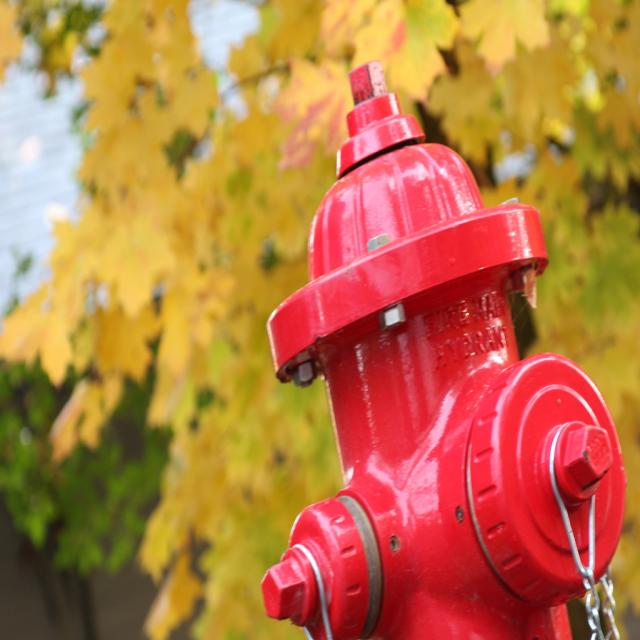fire_hydrant: (263, 64, 629, 636)
